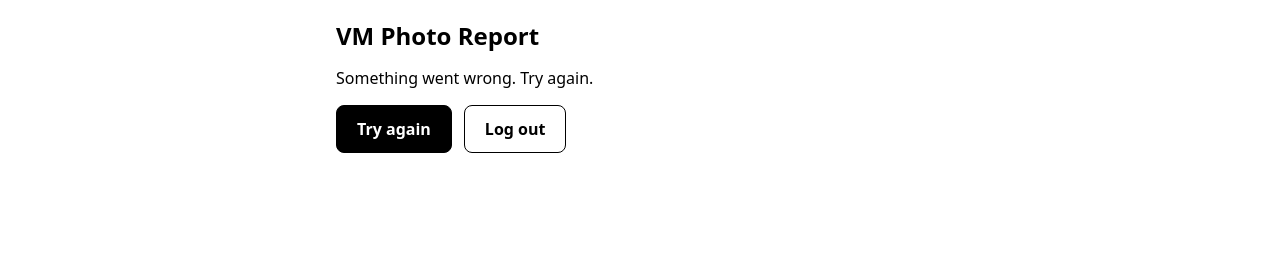
Test case: the app with an unreadable token › shows the generic error and Try again (not "no access"); Try again then opens the store home
The width and height of the screenshot is (1280, 280).
Expected: the message reads "Something went wrong. Try again.", top-left (336, 67), bottom-right (593, 89)
Click the button "Try again": coordinates (394, 129) top-left (336, 105), bottom-right (452, 153)
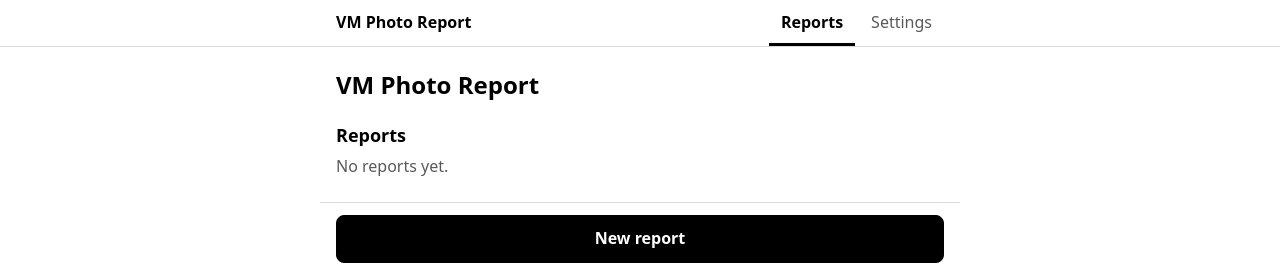
Expected: the button "New report" is shown, top-left (336, 215), bottom-right (944, 263)
Expected: the message "Something went wrong. Try again." is gone
